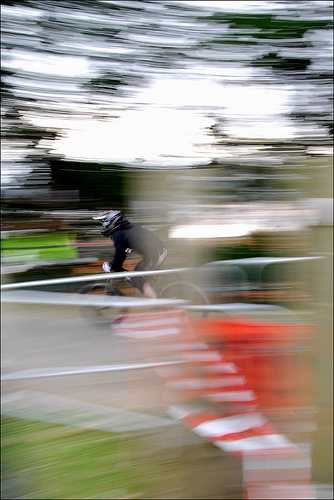helmet: (91, 210, 124, 233)
